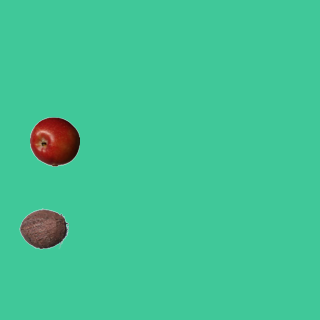Apple Braeburn: (29, 116, 79, 166)
Cocos: (18, 203, 68, 253)
